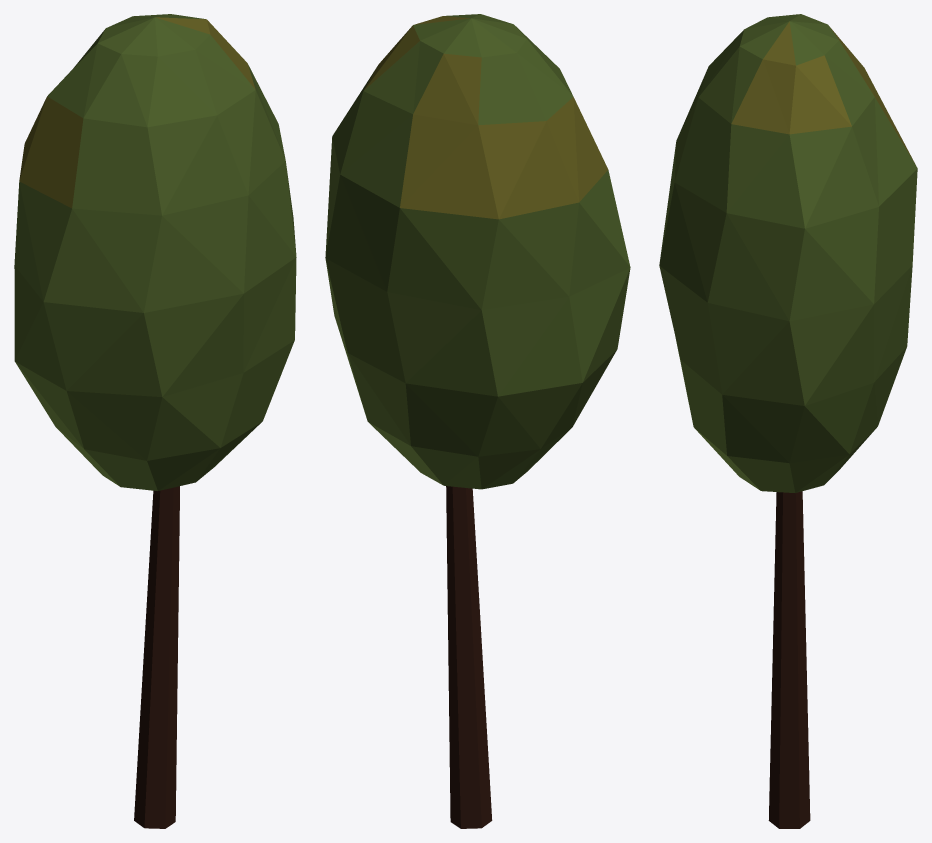
Rendered from Tree_Sapling_04.fbx.
3 renders of one model, left to right at view 1: azimuth 30°, elevation 25°; view 2: azimuth 150°, elevation 25°; view 3: azimuth 270°, elevation 25°, orthographic.
Visible parts, largest first — view 1: Tree_Sapling_04_Foliage, Tree_Sapling_04_Trunk; view 2: Tree_Sapling_04_Foliage, Tree_Sapling_04_Trunk; view 3: Tree_Sapling_04_Foliage, Tree_Sapling_04_Trunk.
Boxes of the visible parts, left/top/right/bottom form: Tree_Sapling_04_Foliage: left=14, top=14, right=296, bottom=490; Tree_Sapling_04_Trunk: left=134, top=486, right=179, bottom=828; Tree_Sapling_04_Foliage: left=325, top=14, right=630, bottom=489; Tree_Sapling_04_Trunk: left=446, top=486, right=492, bottom=828; Tree_Sapling_04_Foliage: left=659, top=14, right=917, bottom=492; Tree_Sapling_04_Trunk: left=768, top=491, right=810, bottom=828.
Bounding box in the file's own units: 1.21 × 3.4 × 0.9954.
1 material, 1 textured.
